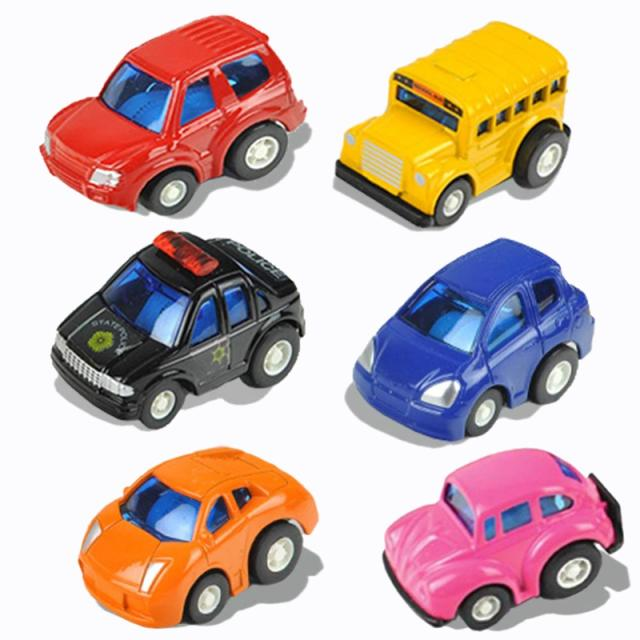Car: (39, 14, 308, 216), (49, 228, 306, 430), (352, 236, 594, 442), (382, 448, 624, 630), (78, 446, 318, 628)
